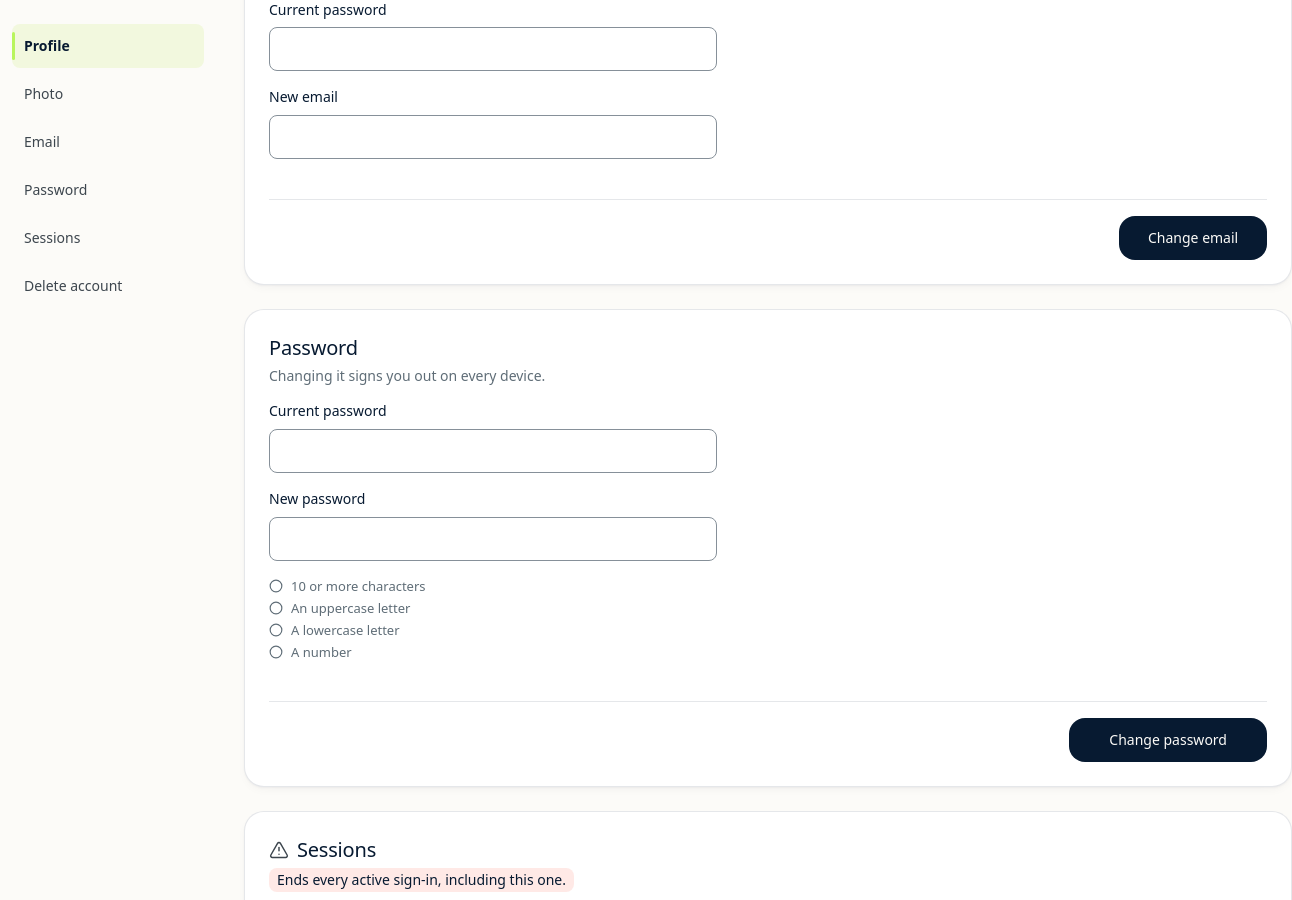
Test: a password change clears the session and goes to login
The width and height of the screenshot is (1292, 900).
(page scrolled)
Step 1. Type "OldPassw0rd!" into the 2nd password field labelled "Current password" → (493, 451), box [269, 429, 717, 473]
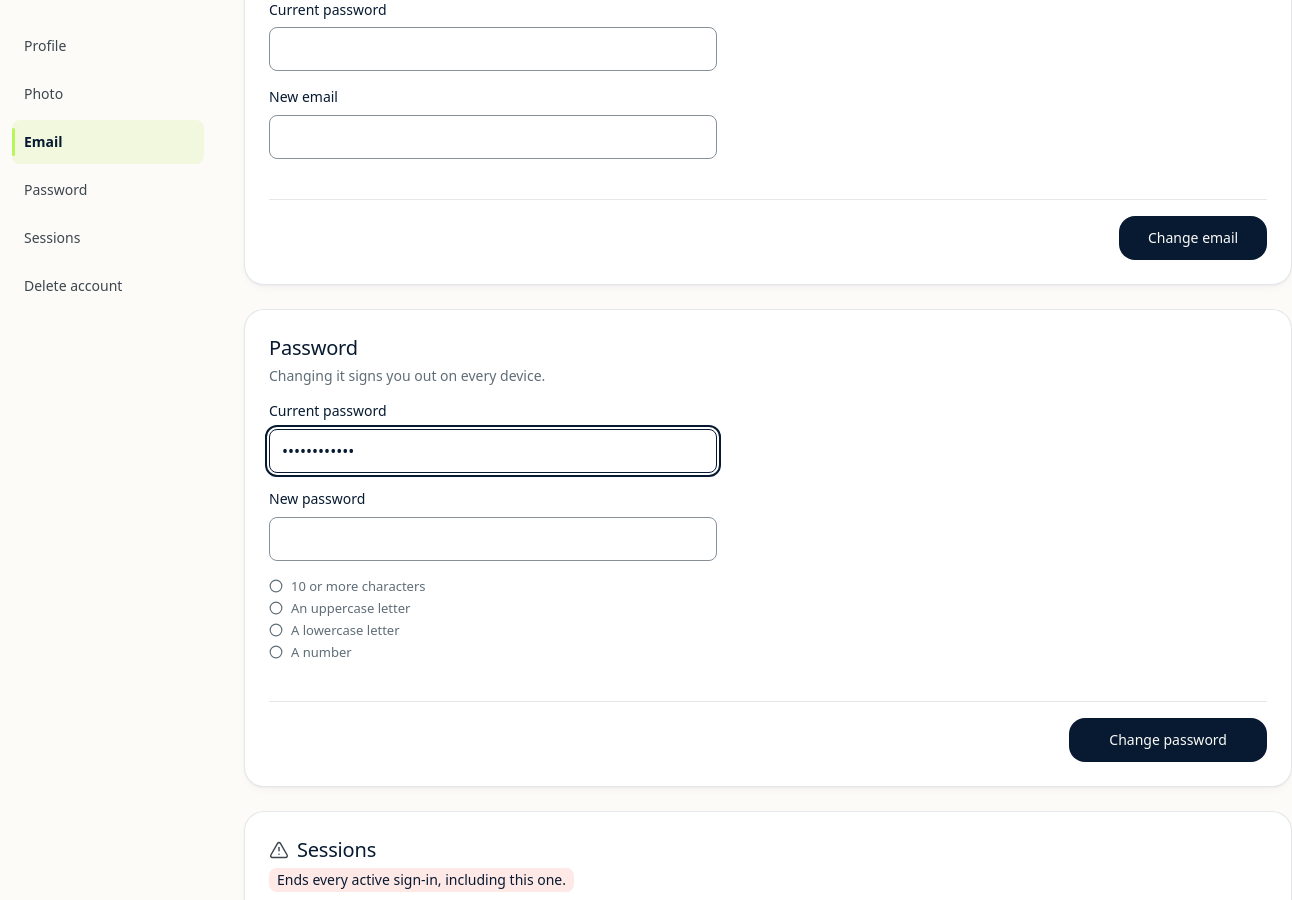
Step 2. Type "NewPassw0rd!" into the password field labelled "New password" → (493, 538), box [269, 516, 717, 560]
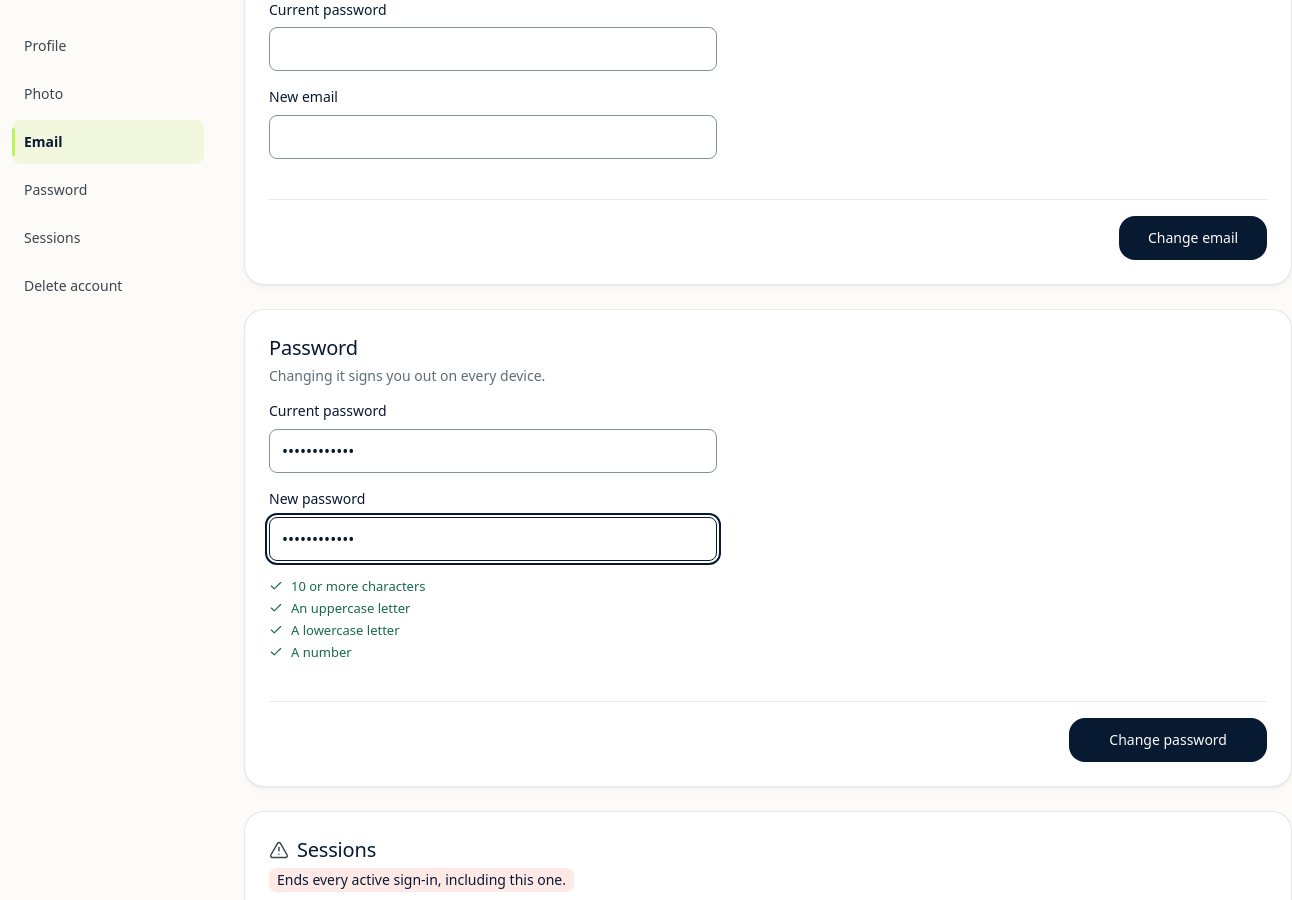
Step 3. Click the button "Change password" → (1168, 740), box [1069, 718, 1267, 762]
(page scrolled)
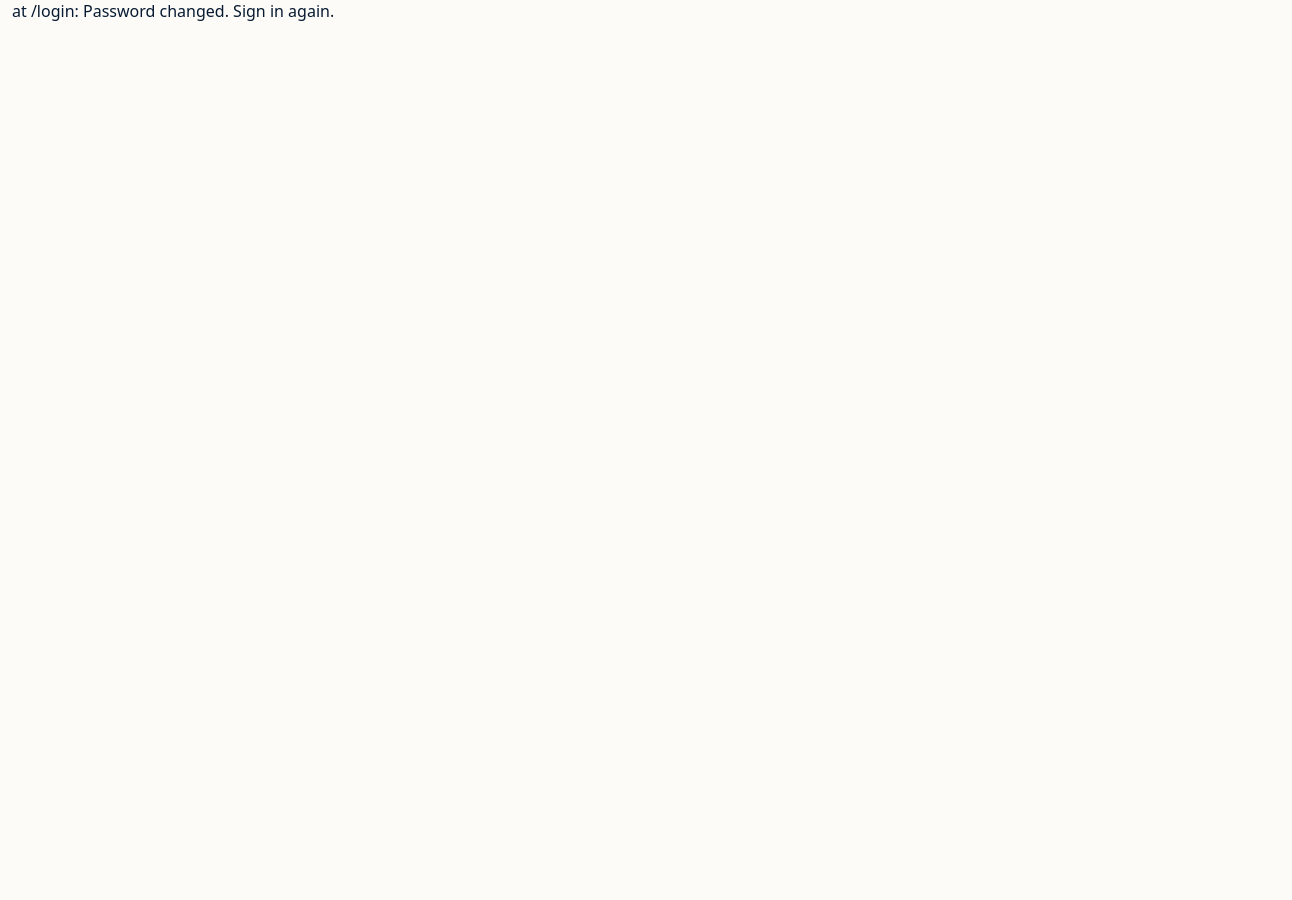
Check: the text "at /login: Password changed. Sign in again." is shown, box [12, 0, 334, 22]
